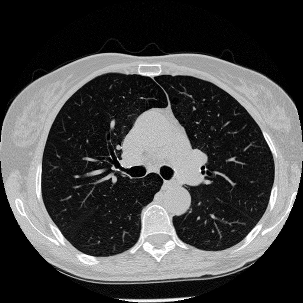nodule: (210, 126, 214, 130)
